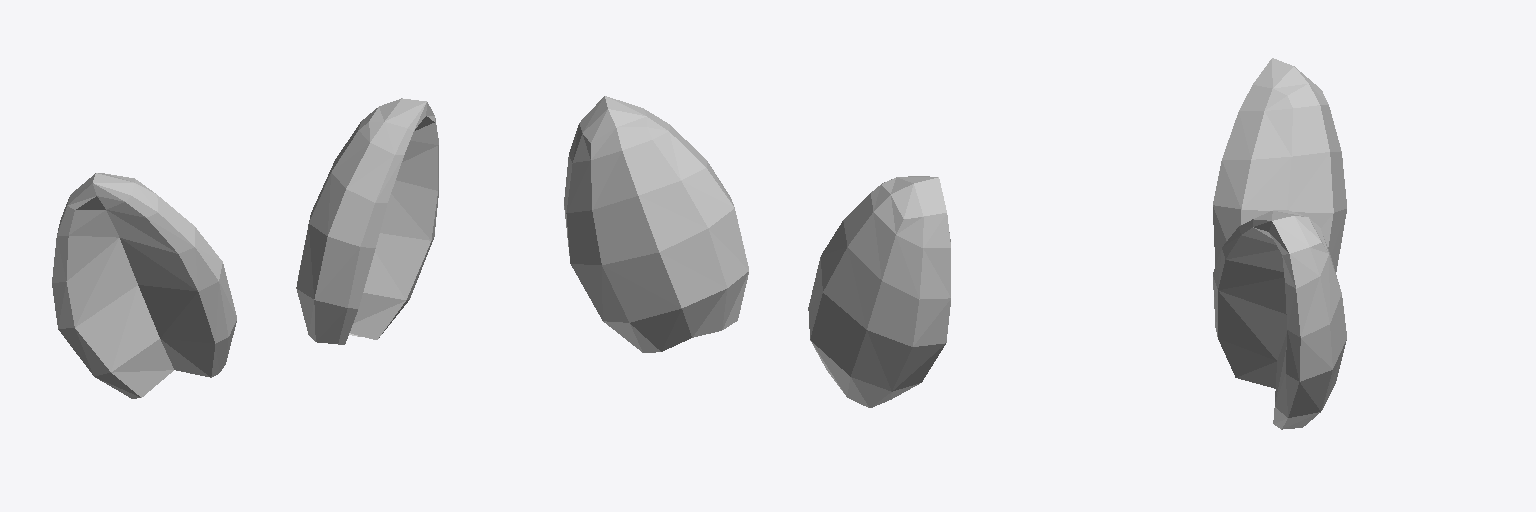
The model's file is nya.obj.
3 renders of one model, left to right at view 1: azimuth 30°, elevation 25°; view 2: azimuth 150°, elevation 25°; view 3: azimuth 270°, elevation 25°, orthographic.
Parts seen in each view (by area): view 1: ears; view 2: ears; view 3: ears.
Boxes of the visible parts, x1,y1,x2,y2 form: ears: [52, 98, 438, 398]; ears: [564, 96, 950, 407]; ears: [1213, 58, 1346, 429].
Size of the model in its own units: 0.3074 by 0.1768 by 0.0925.